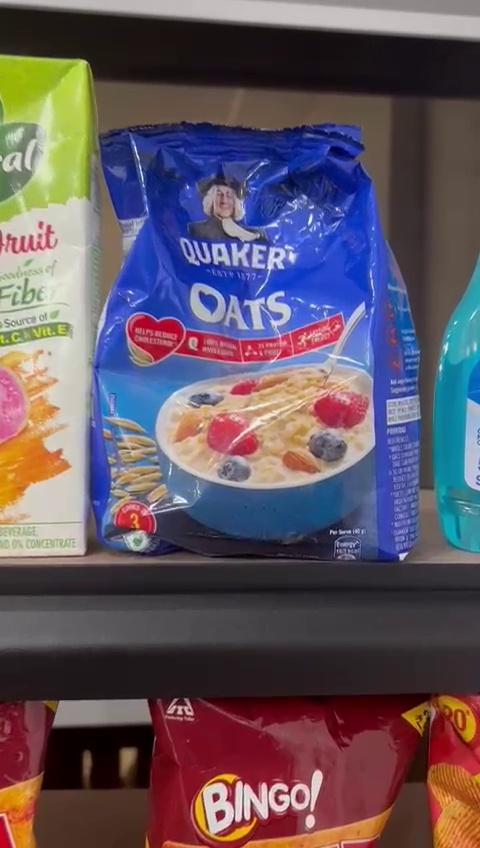Quaker Oats: (90, 123, 421, 561)
